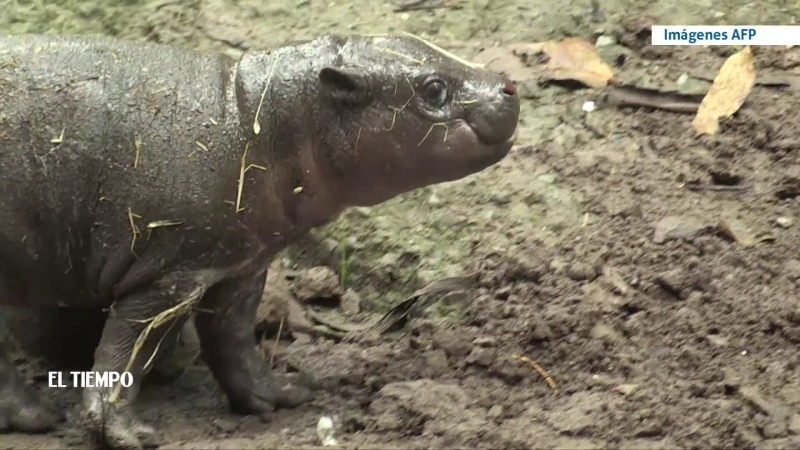hipopotamo: (1, 8, 542, 444)
